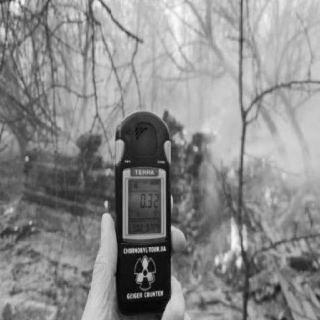Fire: (210, 213, 251, 279), (3, 204, 37, 244)
